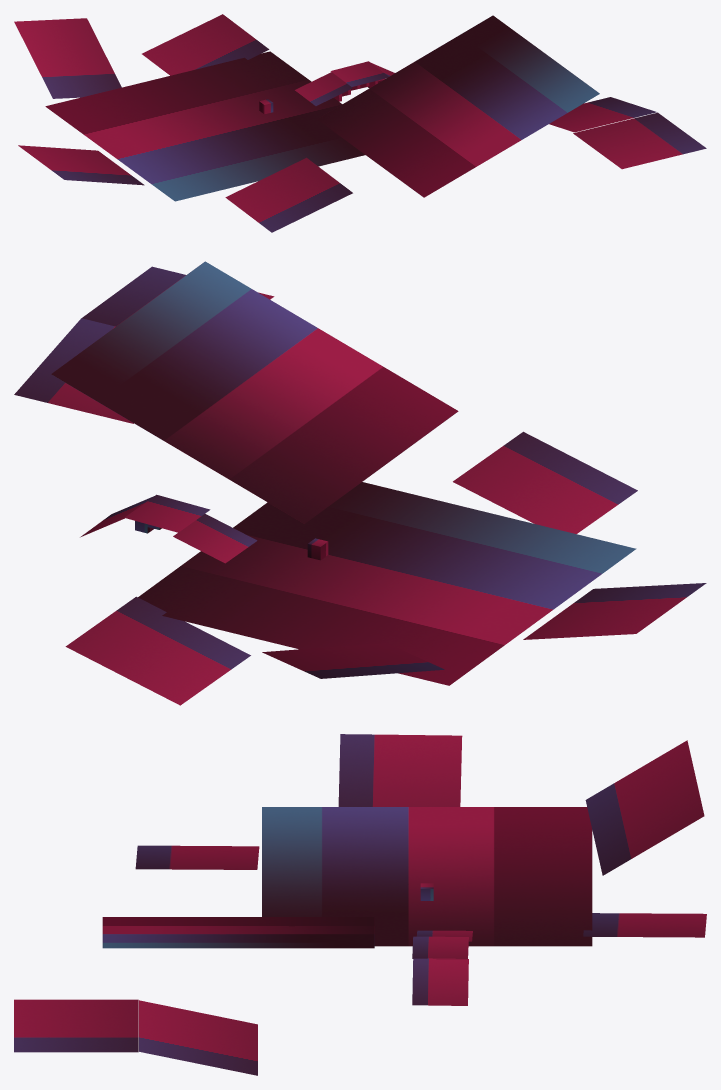
File: TCollision.fbx
The picture shows the model from 3 angles, top to bottom: view 1: azimuth 30°, elevation 25°; view 2: azimuth 150°, elevation 25°; view 3: azimuth 270°, elevation 25°; orthographic projection. The views are drawn at different scales.
Parts seen in each view (by area): view 1: pCube1, pPlane1, pCube11, pCube9, pCube7, pCube12, pCube10, pCube8, pCube13, pCube14; view 2: pCube1, pPlane1, pCube12, pCube9, pCube10, pCube11, pCube8, pCube7, pCube13, pCube14; view 3: pCube1, pCube11, pCube10, pPlane1, pCube7, pCube8, pCube9, pCube12, pCube15, pCube14.
Boxes of the visible parts, <box> form: pCube1: <box>45,51,364,201</box>; pPlane1: <box>317,15,599,197</box>; pCube11: <box>14,18,121,98</box>; pCube9: <box>225,157,352,232</box>; pCube7: <box>573,112,706,169</box>; pCube12: <box>142,14,269,75</box>; pCube10: <box>18,145,144,185</box>; pCube8: <box>549,97,656,132</box>; pCube13: <box>295,72,352,105</box>; pCube14: <box>330,61,388,86</box>; pCube1: <box>138,482,636,685</box>; pPlane1: <box>51,261,458,523</box>; pCube12: <box>65,596,250,705</box>; pCube9: <box>453,431,637,533</box>; pCube10: <box>523,583,706,639</box>; pCube11: <box>262,643,444,678</box>; pCube8: <box>14,318,133,423</box>; pCube7: <box>82,266,274,326</box>; pCube13: <box>173,514,257,563</box>; pCube14: <box>124,494,210,532</box>; pCube1: <box>262,807,592,946</box>; pCube11: <box>585,740,704,875</box>; pCube10: <box>338,734,462,806</box>; pPlane1: <box>102,917,374,948</box>; pCube7: <box>14,999,138,1052</box>; pCube8: <box>139,1000,257,1075</box>; pCube9: <box>135,845,259,869</box>; pCube12: <box>583,913,706,937</box>; pCube15: <box>412,958,468,1005</box>; pCube14: <box>412,936,468,959</box>.
Size of the model in its own units: 57.23 by 8.56 by 52.64.
1 material, 1 textured.
